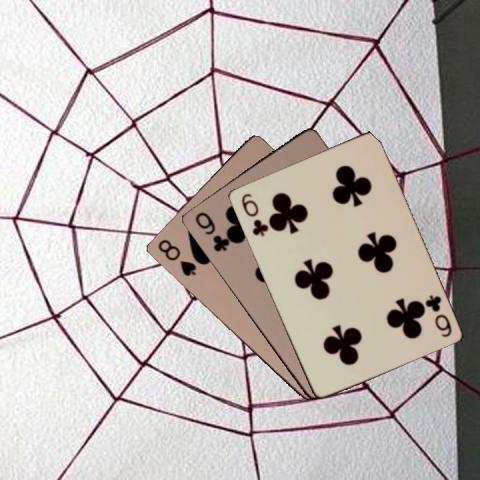6c: (422, 291, 453, 339), (238, 190, 269, 237)
8s: (154, 236, 197, 278)
9c: (191, 209, 229, 253)
